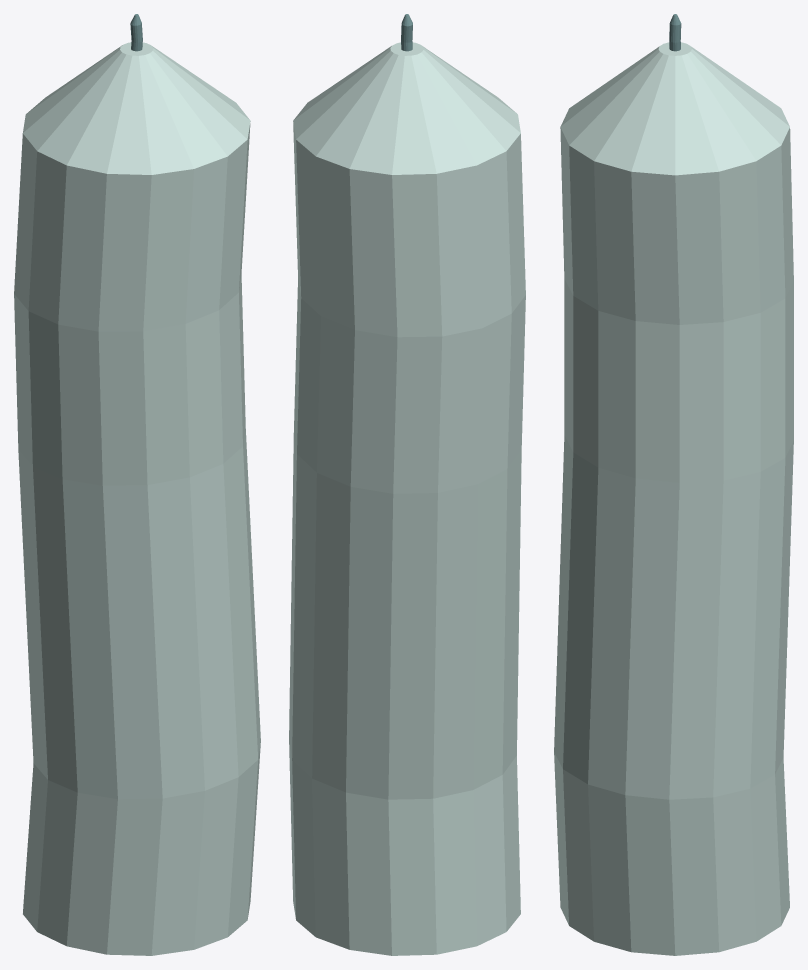
File: candle.fbx
3 renders of one model, left to right at view 1: azimuth 30°, elevation 25°; view 2: azimuth 150°, elevation 25°; view 3: azimuth 270°, elevation 25°, orthographic.
Visible parts, largest first — view 1: candle; view 2: candle; view 3: candle.
Part boxes in pixels (bbox=[...]): candle: bbox=[14, 14, 260, 955]; candle: bbox=[289, 14, 525, 955]; candle: bbox=[554, 14, 793, 955].
Bounding box in the file's own units: 4.28 × 17.15 × 4.18.
